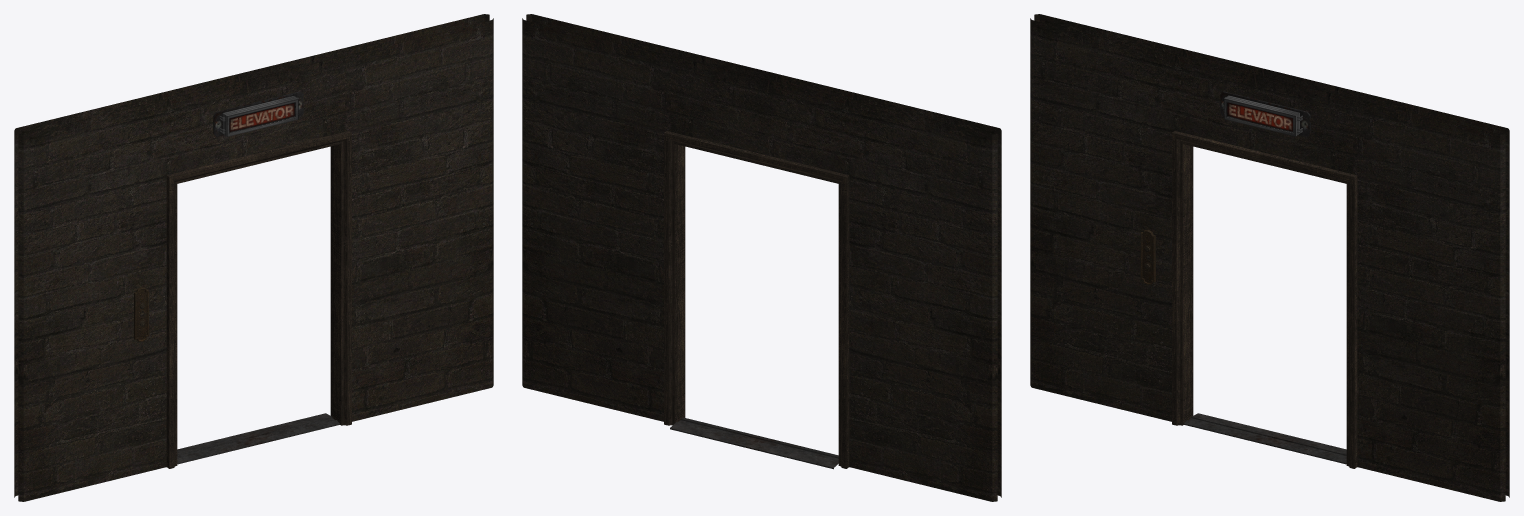
The model's file is elevator_doorway_3.glb.
3 renders of one model, left to right at view 1: azimuth 30°, elevation 25°; view 2: azimuth 150°, elevation 25°; view 3: azimuth 330°, elevation 25°, orthographic.
Parts seen in each view (by area): view 1: elevator_doorway_3; view 2: elevator_doorway_3; view 3: elevator_doorway_3.
Boxes of the visible parts, x1,y1,x2,y2 form: elevator_doorway_3: [14, 14, 493, 501]; elevator_doorway_3: [522, 14, 1001, 501]; elevator_doorway_3: [1030, 14, 1509, 501].
Bounding box in the file's own units: 4.06 × 3 × 0.29.
5 materials, 5 textured.
